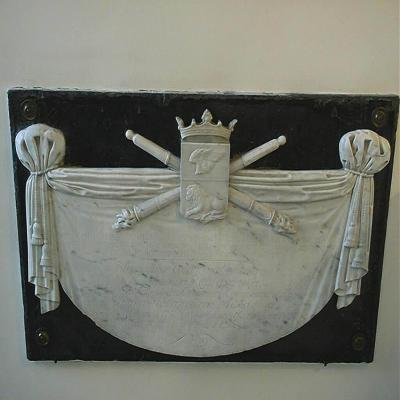sculpture: (8, 89, 398, 363)
